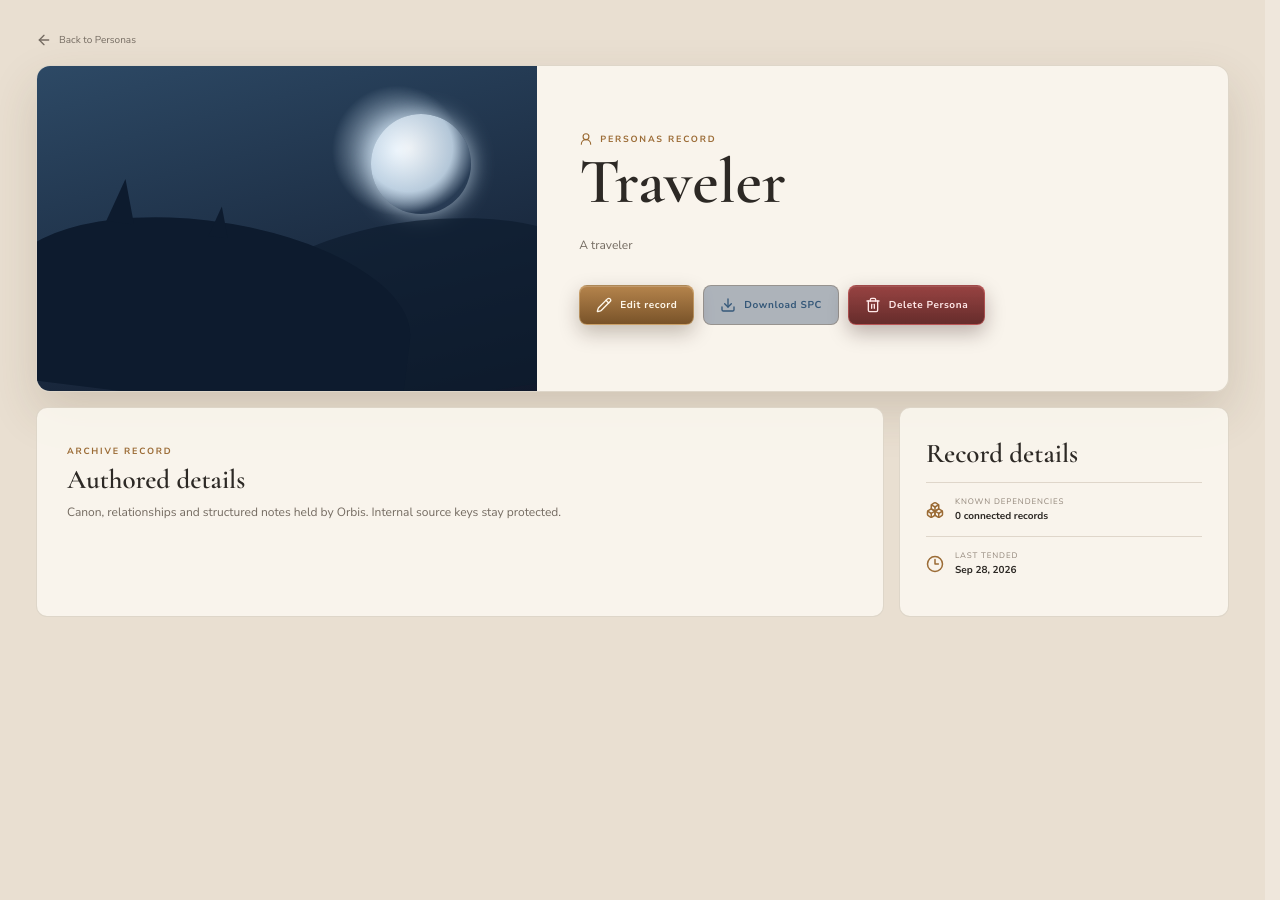
it: Persona deletion › shows server errors and permits retry without leaving the record
The image size is (1280, 900).
Click the button "Delete Persona".
click(916, 305)  # box [848,285,985,325]
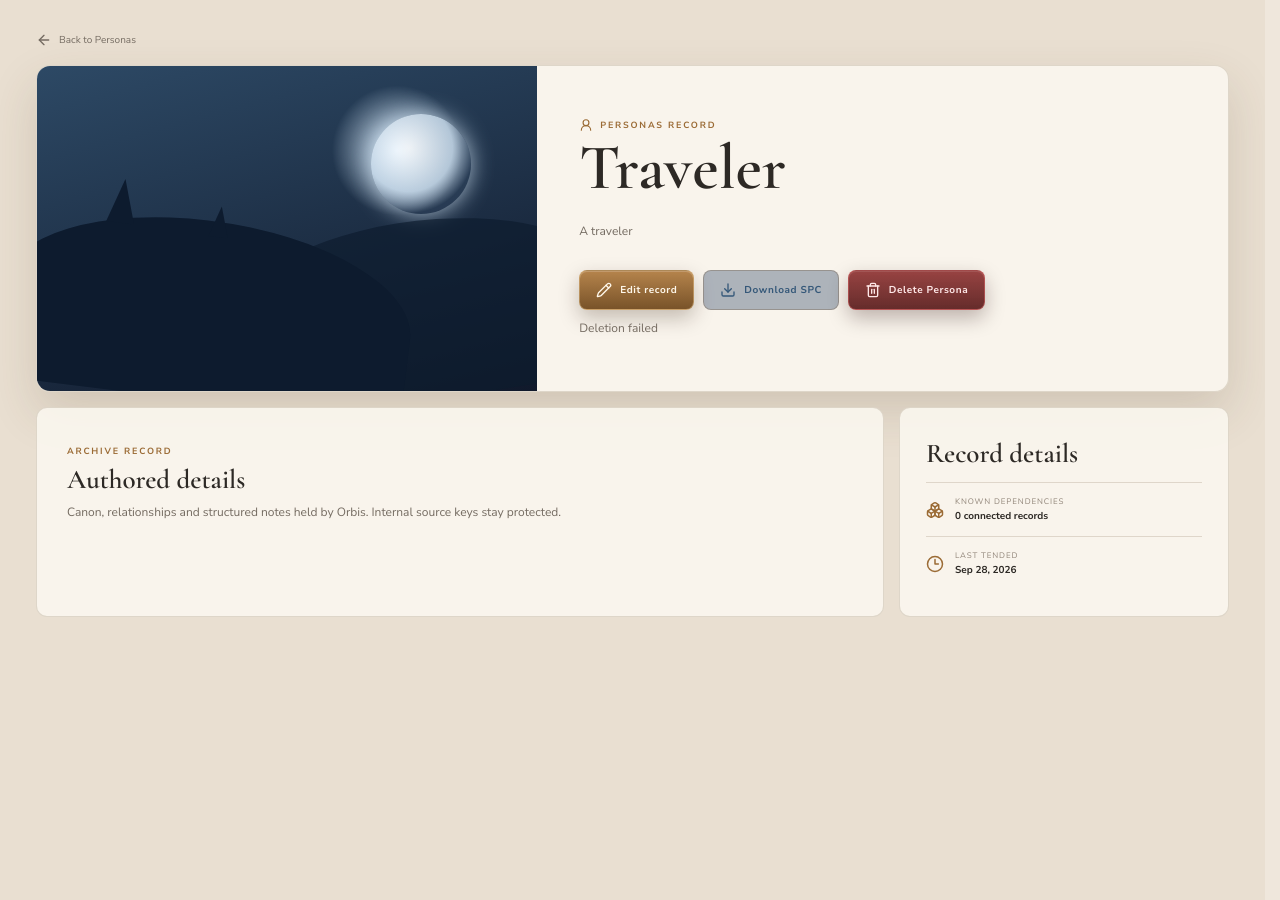
expect the button "Delete Persona" is enabled: met, box [848,270,985,310]
expect the message reads "Deletion failed": met, box [579,320,658,336]
